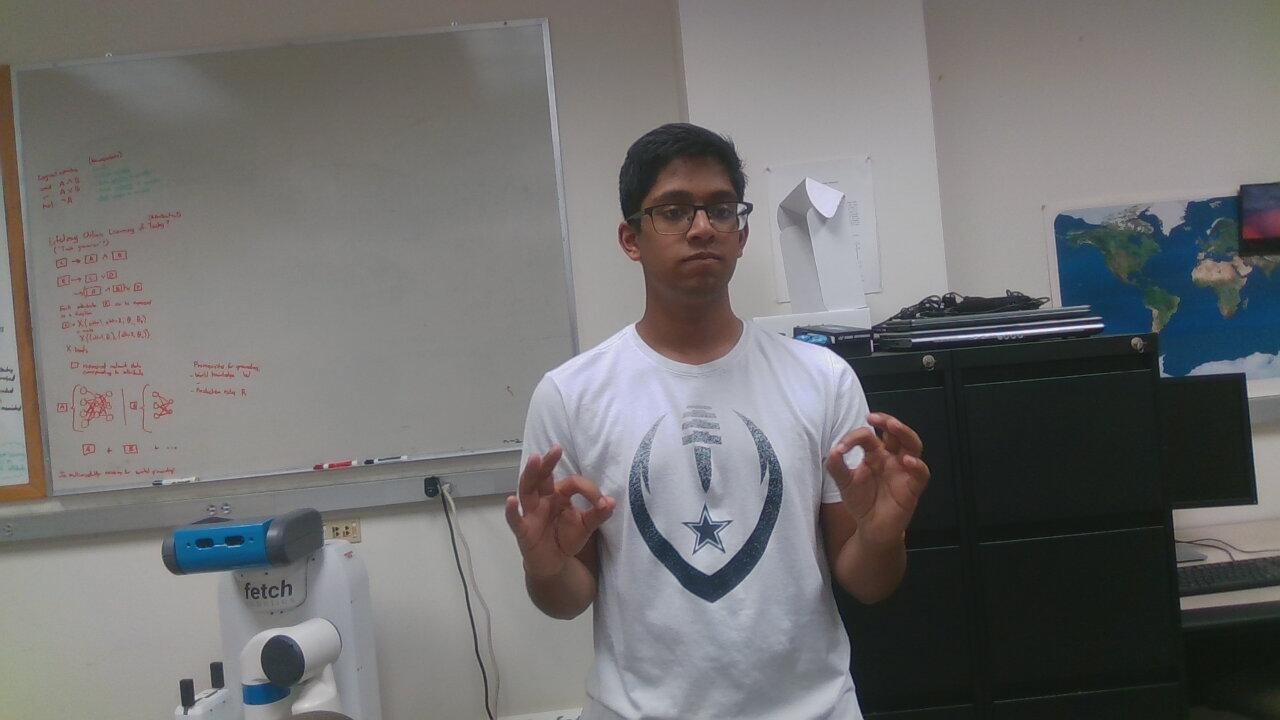hands: (491, 436, 618, 588), (826, 407, 938, 565)
